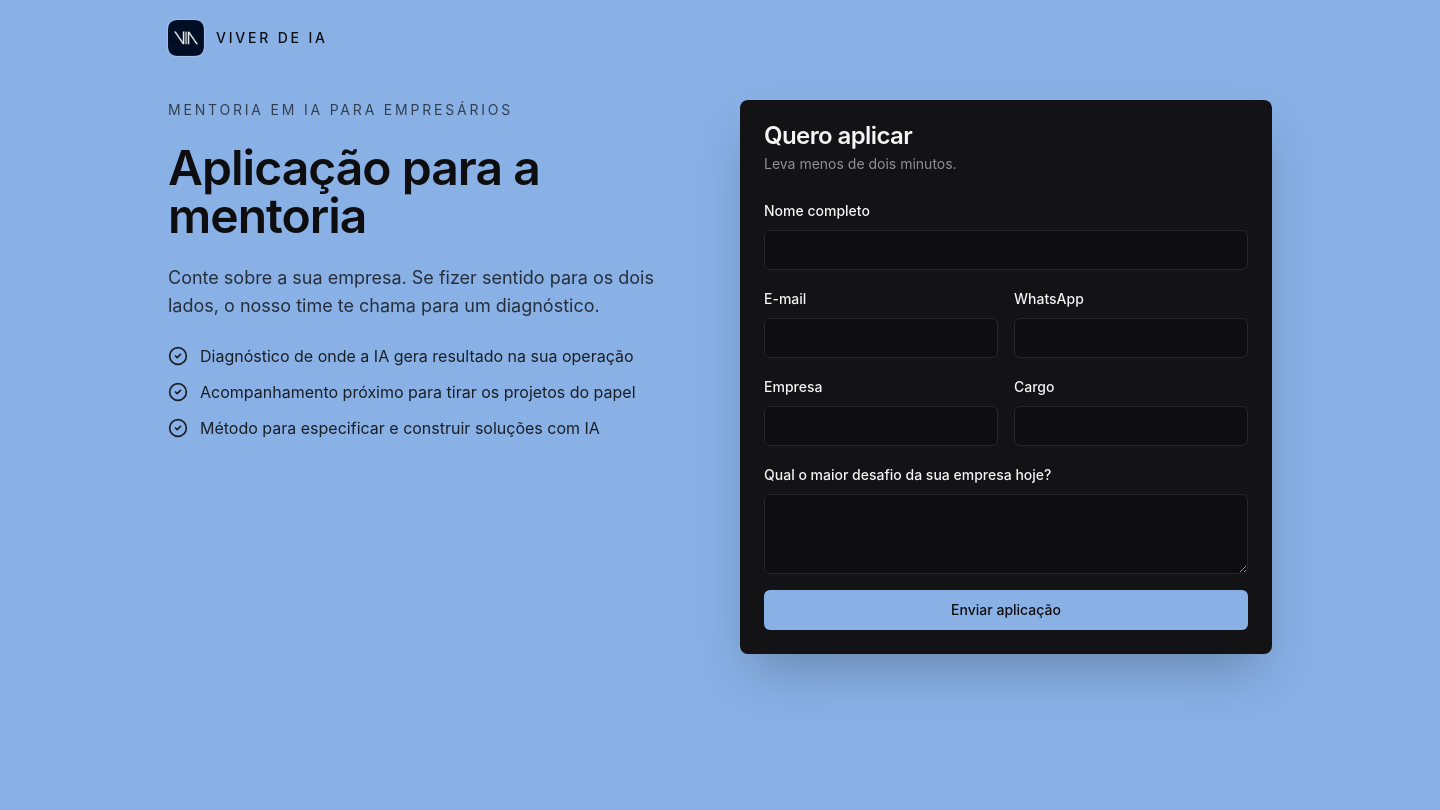
Application (landing page) › explains what to fix when the database rejects the e-mail
In the field labelled "Nome completo": (1006, 250) [764,230,1248,270], type "Helena Martins"
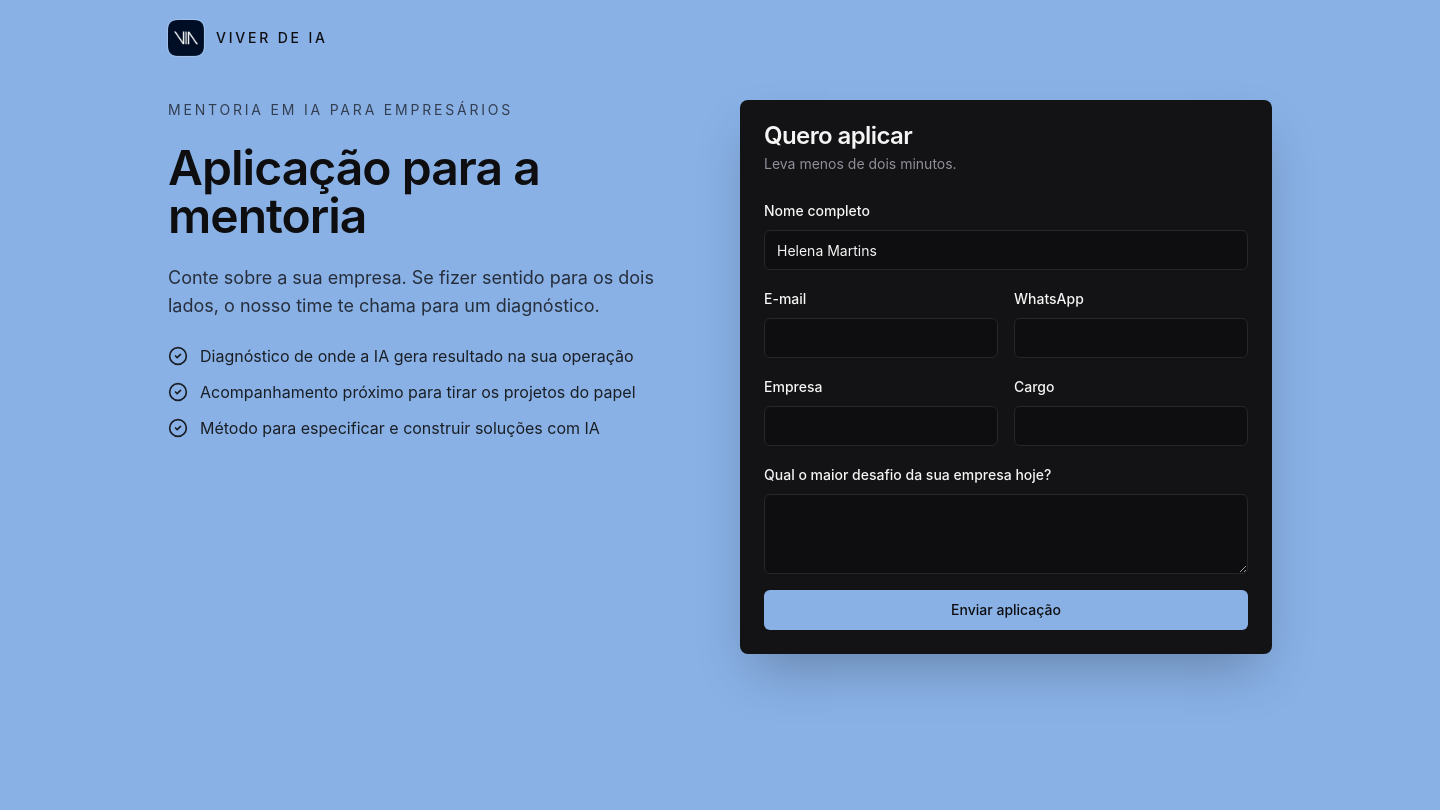
In the field labelled "E-mail": (881, 338) [764,318,998,358], type "helena@exemplo.com.br"
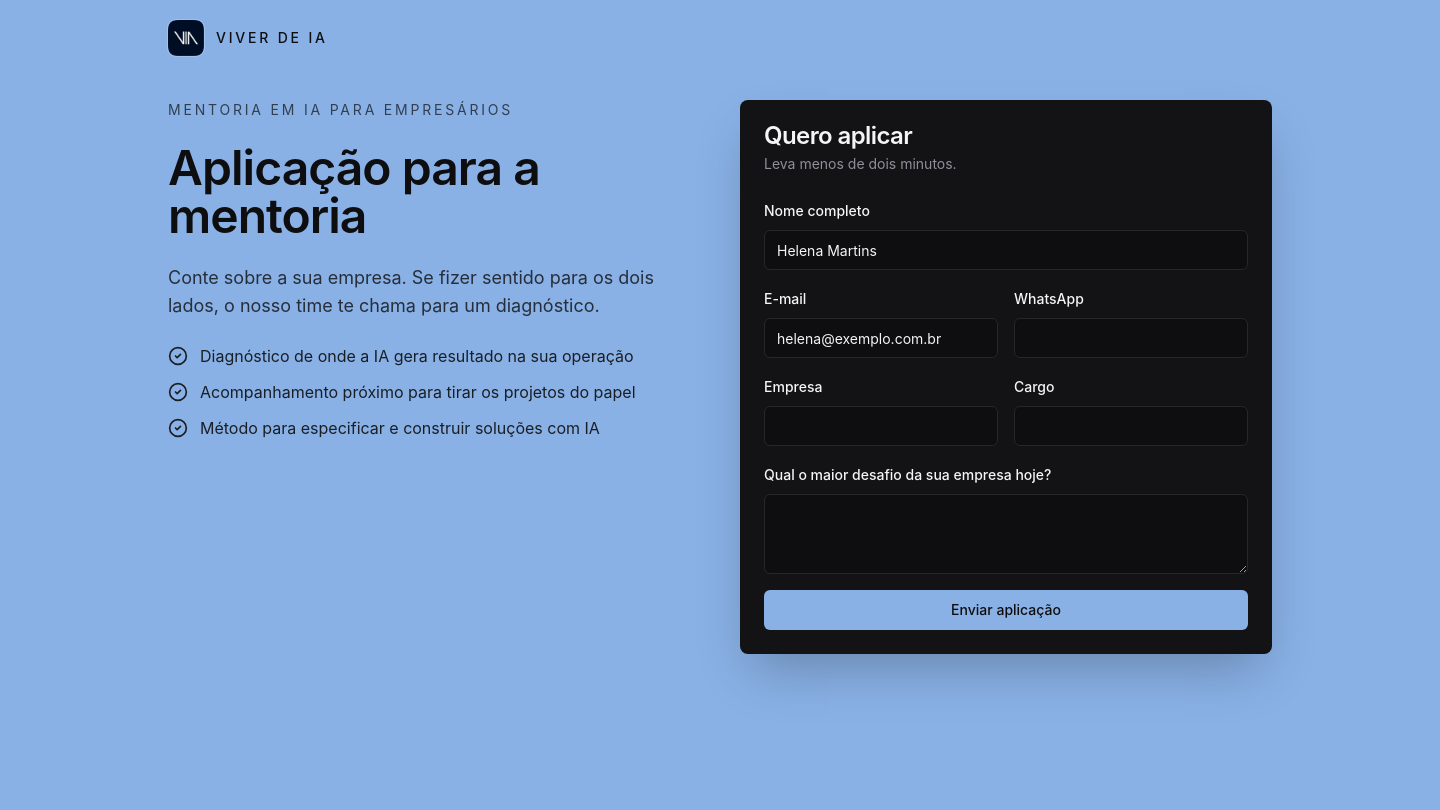
Click the button "Enviar aplicação": (1006, 610) [764,590,1248,630]
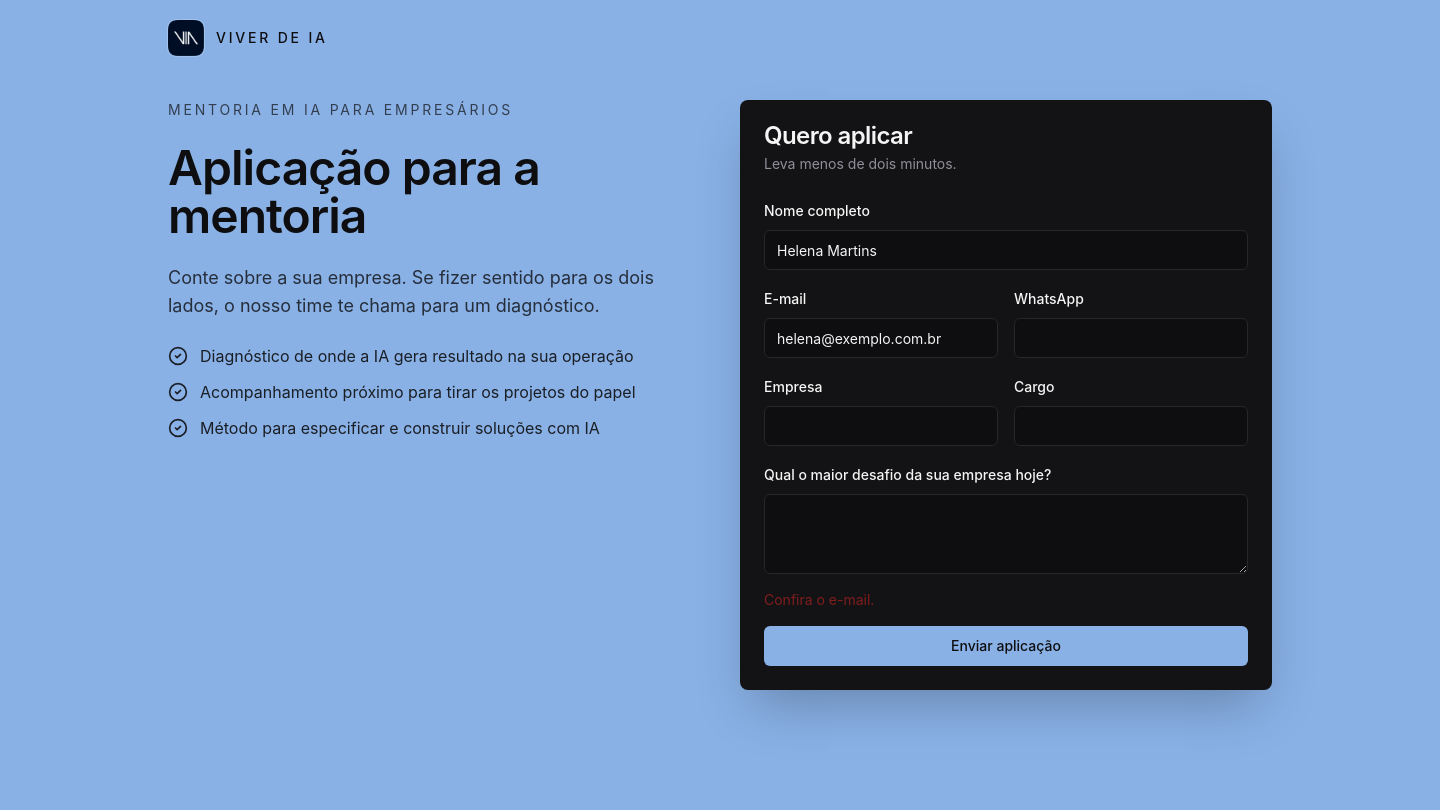
Expected: the text "Confira o e-mail." is shown, [764,591,874,608]
